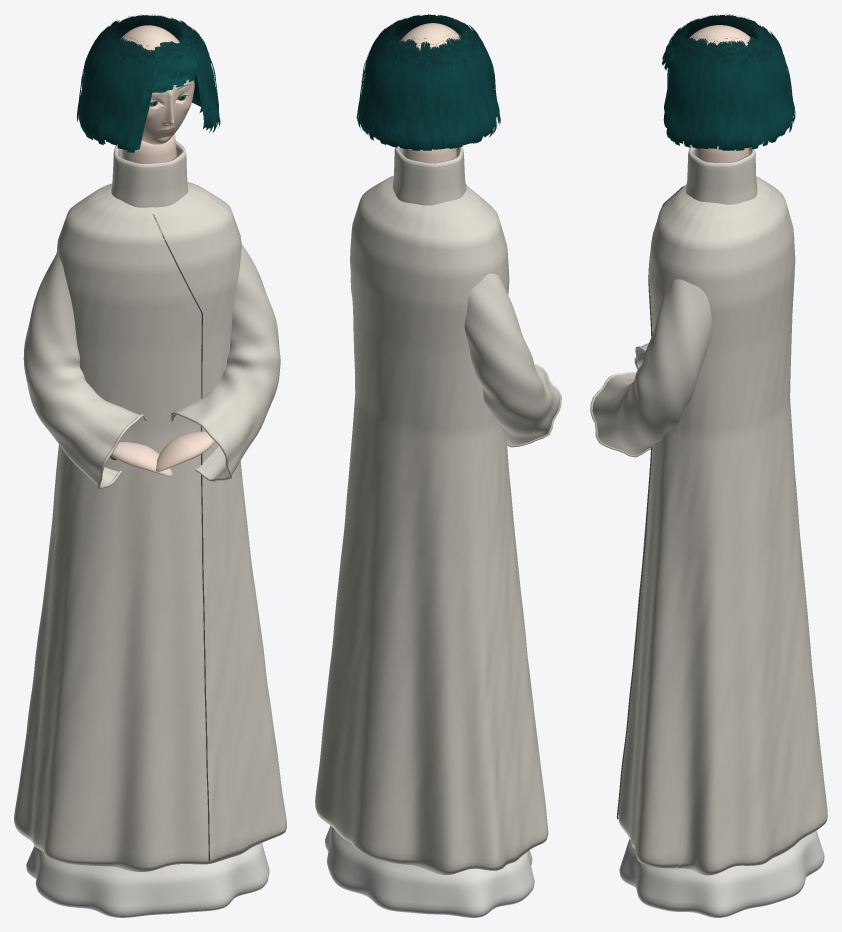
The model's file is aoi.glb.
The picture shows the model from 3 angles, left to right: view 1: azimuth 30°, elevation 25°; view 2: azimuth 150°, elevation 25°; view 3: azimuth 270°, elevation 25°; orthographic projection.
Parts seen in each view (by area): view 1: コート, 袖, 髪, 下の裾, 立ち襟, 顔, 手, 合わせ目, 首, 髪の下地; view 2: コート, 髪, 袖, 下の裾, 立ち襟, 頭, 髪の下地, 首; view 3: コート, 髪, 袖, 下の裾, 立ち襟, 合わせ目, 髪の下地, 首.
Part boxes in pixels (x1,y1,x2,y2): コート: [14, 181, 286, 871]; 袖: [23, 244, 280, 488]; 髪: [76, 14, 220, 152]; 下の裾: [26, 843, 269, 917]; 立ち襟: [111, 141, 188, 207]; 顔: [132, 28, 194, 144]; 手: [111, 431, 214, 476]; 合わせ目: [153, 214, 209, 860]; 首: [121, 134, 176, 163]; 髪の下地: [112, 15, 200, 102]; コート: [315, 175, 548, 875]; 髪: [356, 14, 500, 150]; 袖: [350, 273, 561, 447]; 下の裾: [325, 826, 534, 917]; 立ち襟: [392, 146, 466, 205]; 頭: [399, 25, 451, 50]; 髪の下地: [392, 15, 462, 40]; 首: [402, 148, 456, 163]; コート: [618, 176, 827, 875]; 髪: [662, 14, 795, 150]; 袖: [590, 279, 711, 457]; 下の裾: [619, 830, 824, 917]; 立ち襟: [686, 145, 757, 204]; 合わせ目: [616, 186, 683, 819]; 髪の下地: [685, 15, 758, 39]; 首: [695, 146, 749, 162].
Bounding box in the file's own units: 0.4754 × 1.71 × 0.4364.
10 materials, 6 textured.
